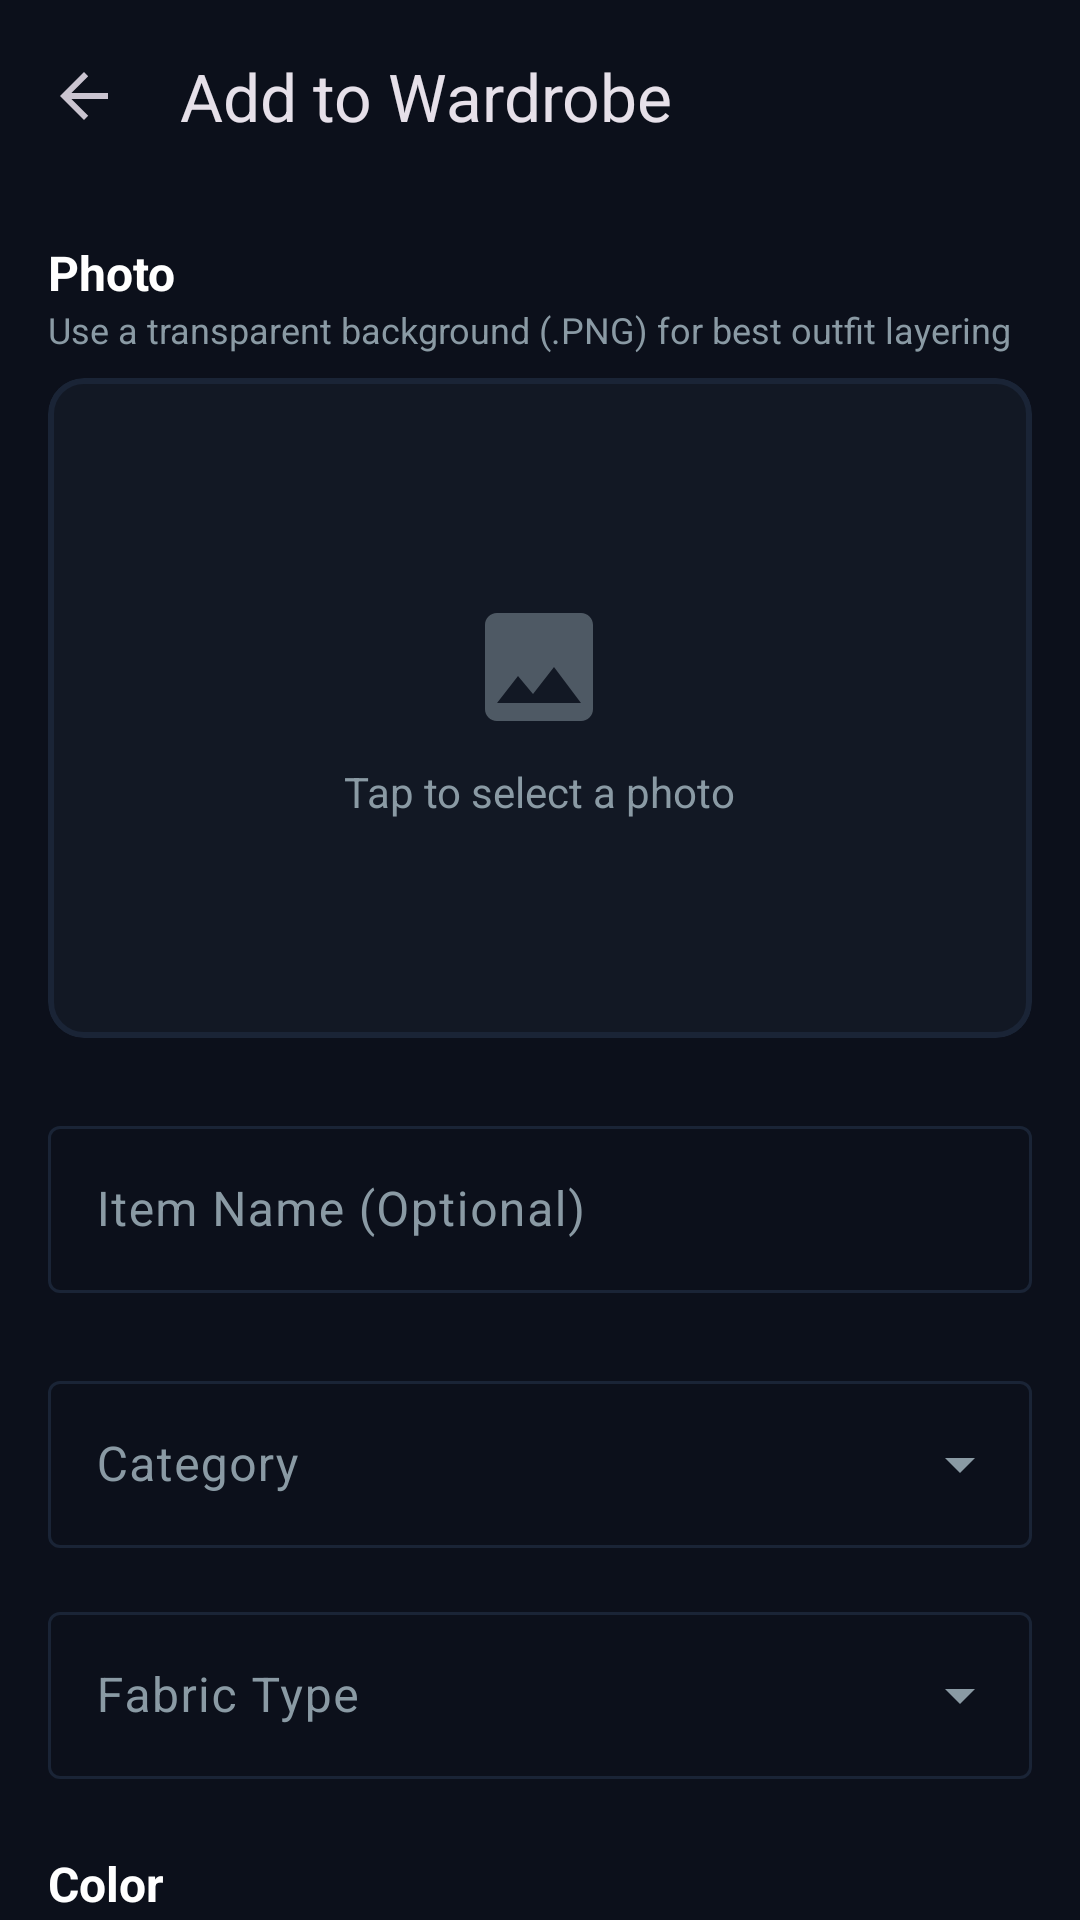

Named icons in this screenshot (1080*1920) and their centers, (x,y):
Add photo: (539,667)
